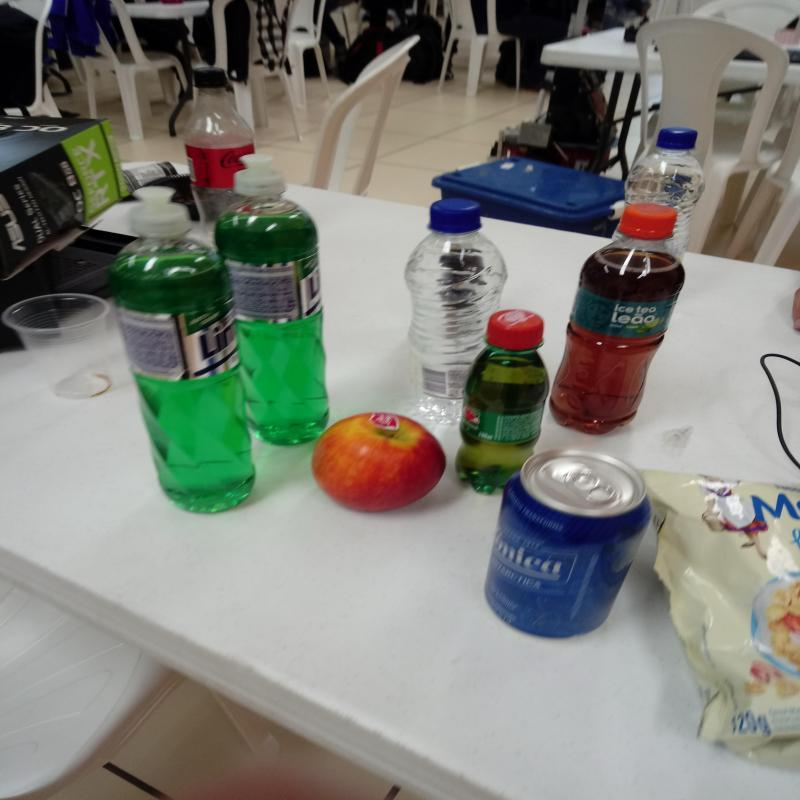Apple: (315, 411, 451, 508)
Cleaner: (107, 188, 260, 512), (214, 154, 335, 452)
CornFlakes: (626, 463, 800, 774)
Guarana: (456, 307, 551, 494)
IceTea: (548, 205, 689, 432)
Tonic: (482, 450, 652, 641)
Water: (404, 199, 510, 406), (628, 131, 710, 258)
